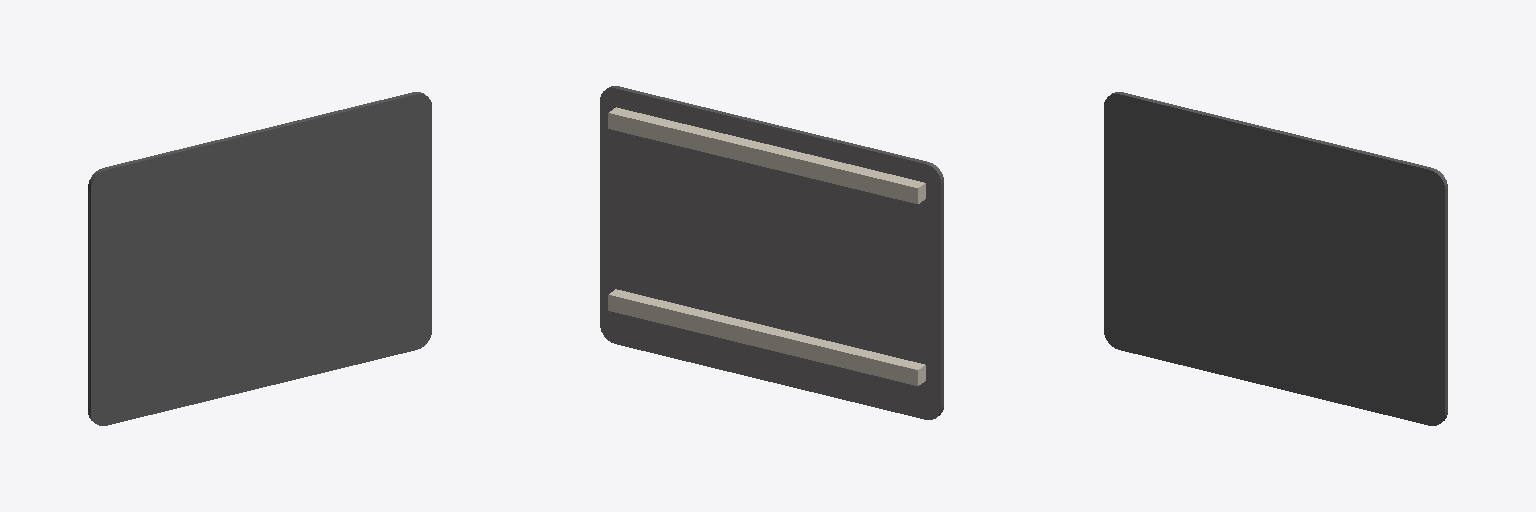
The model's file is 2pir_lustro.obj.
3 views of the same model, side by side, from view 1: azimuth 30°, elevation 25°; view 2: azimuth 150°, elevation 25°; view 3: azimuth 330°, elevation 25° (orthographic).
Parts seen in each view (by area): view 1: Rectangle15; view 2: Rectangle15, Box03, Box02; view 3: Rectangle15.
Boxes of the visible parts, x1,y1,x2,y2 form: Rectangle15: [88, 92, 431, 425]; Rectangle15: [600, 86, 943, 419]; Box03: [608, 289, 925, 385]; Box02: [608, 107, 925, 203]; Rectangle15: [1104, 92, 1447, 425].
Bounding box in the file's own units: 69.98 × 50.11 × 3.89.